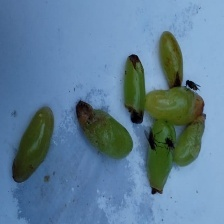grapes: (20, 9, 171, 207)
